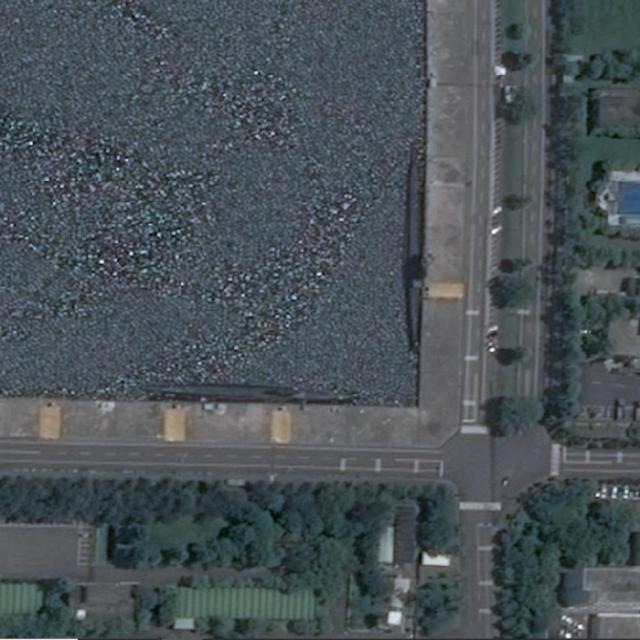Submarine: (137, 378, 346, 403), (403, 163, 425, 349)
